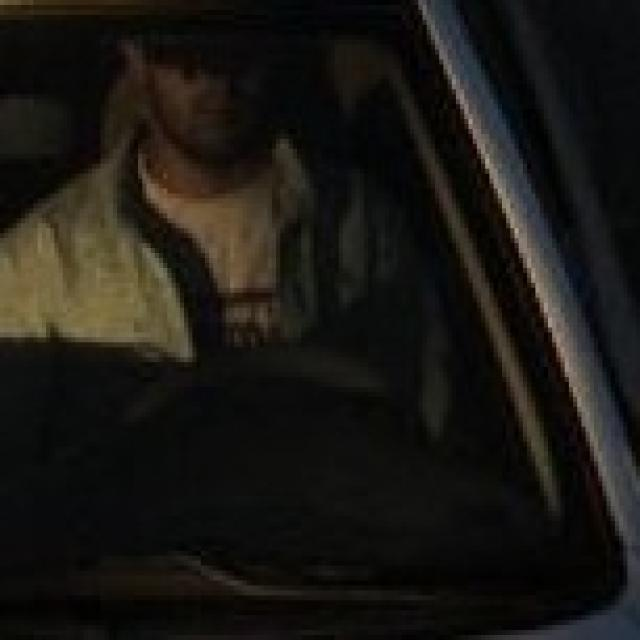No-seat-belt: (4, 22, 568, 504)
